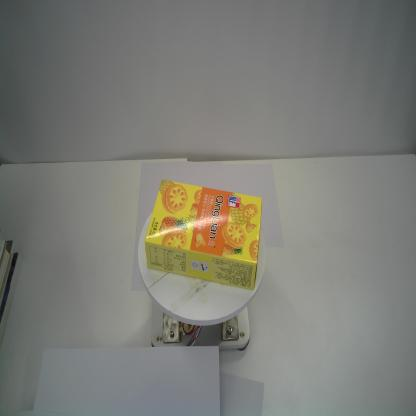Dessert: (143, 178, 264, 292)
